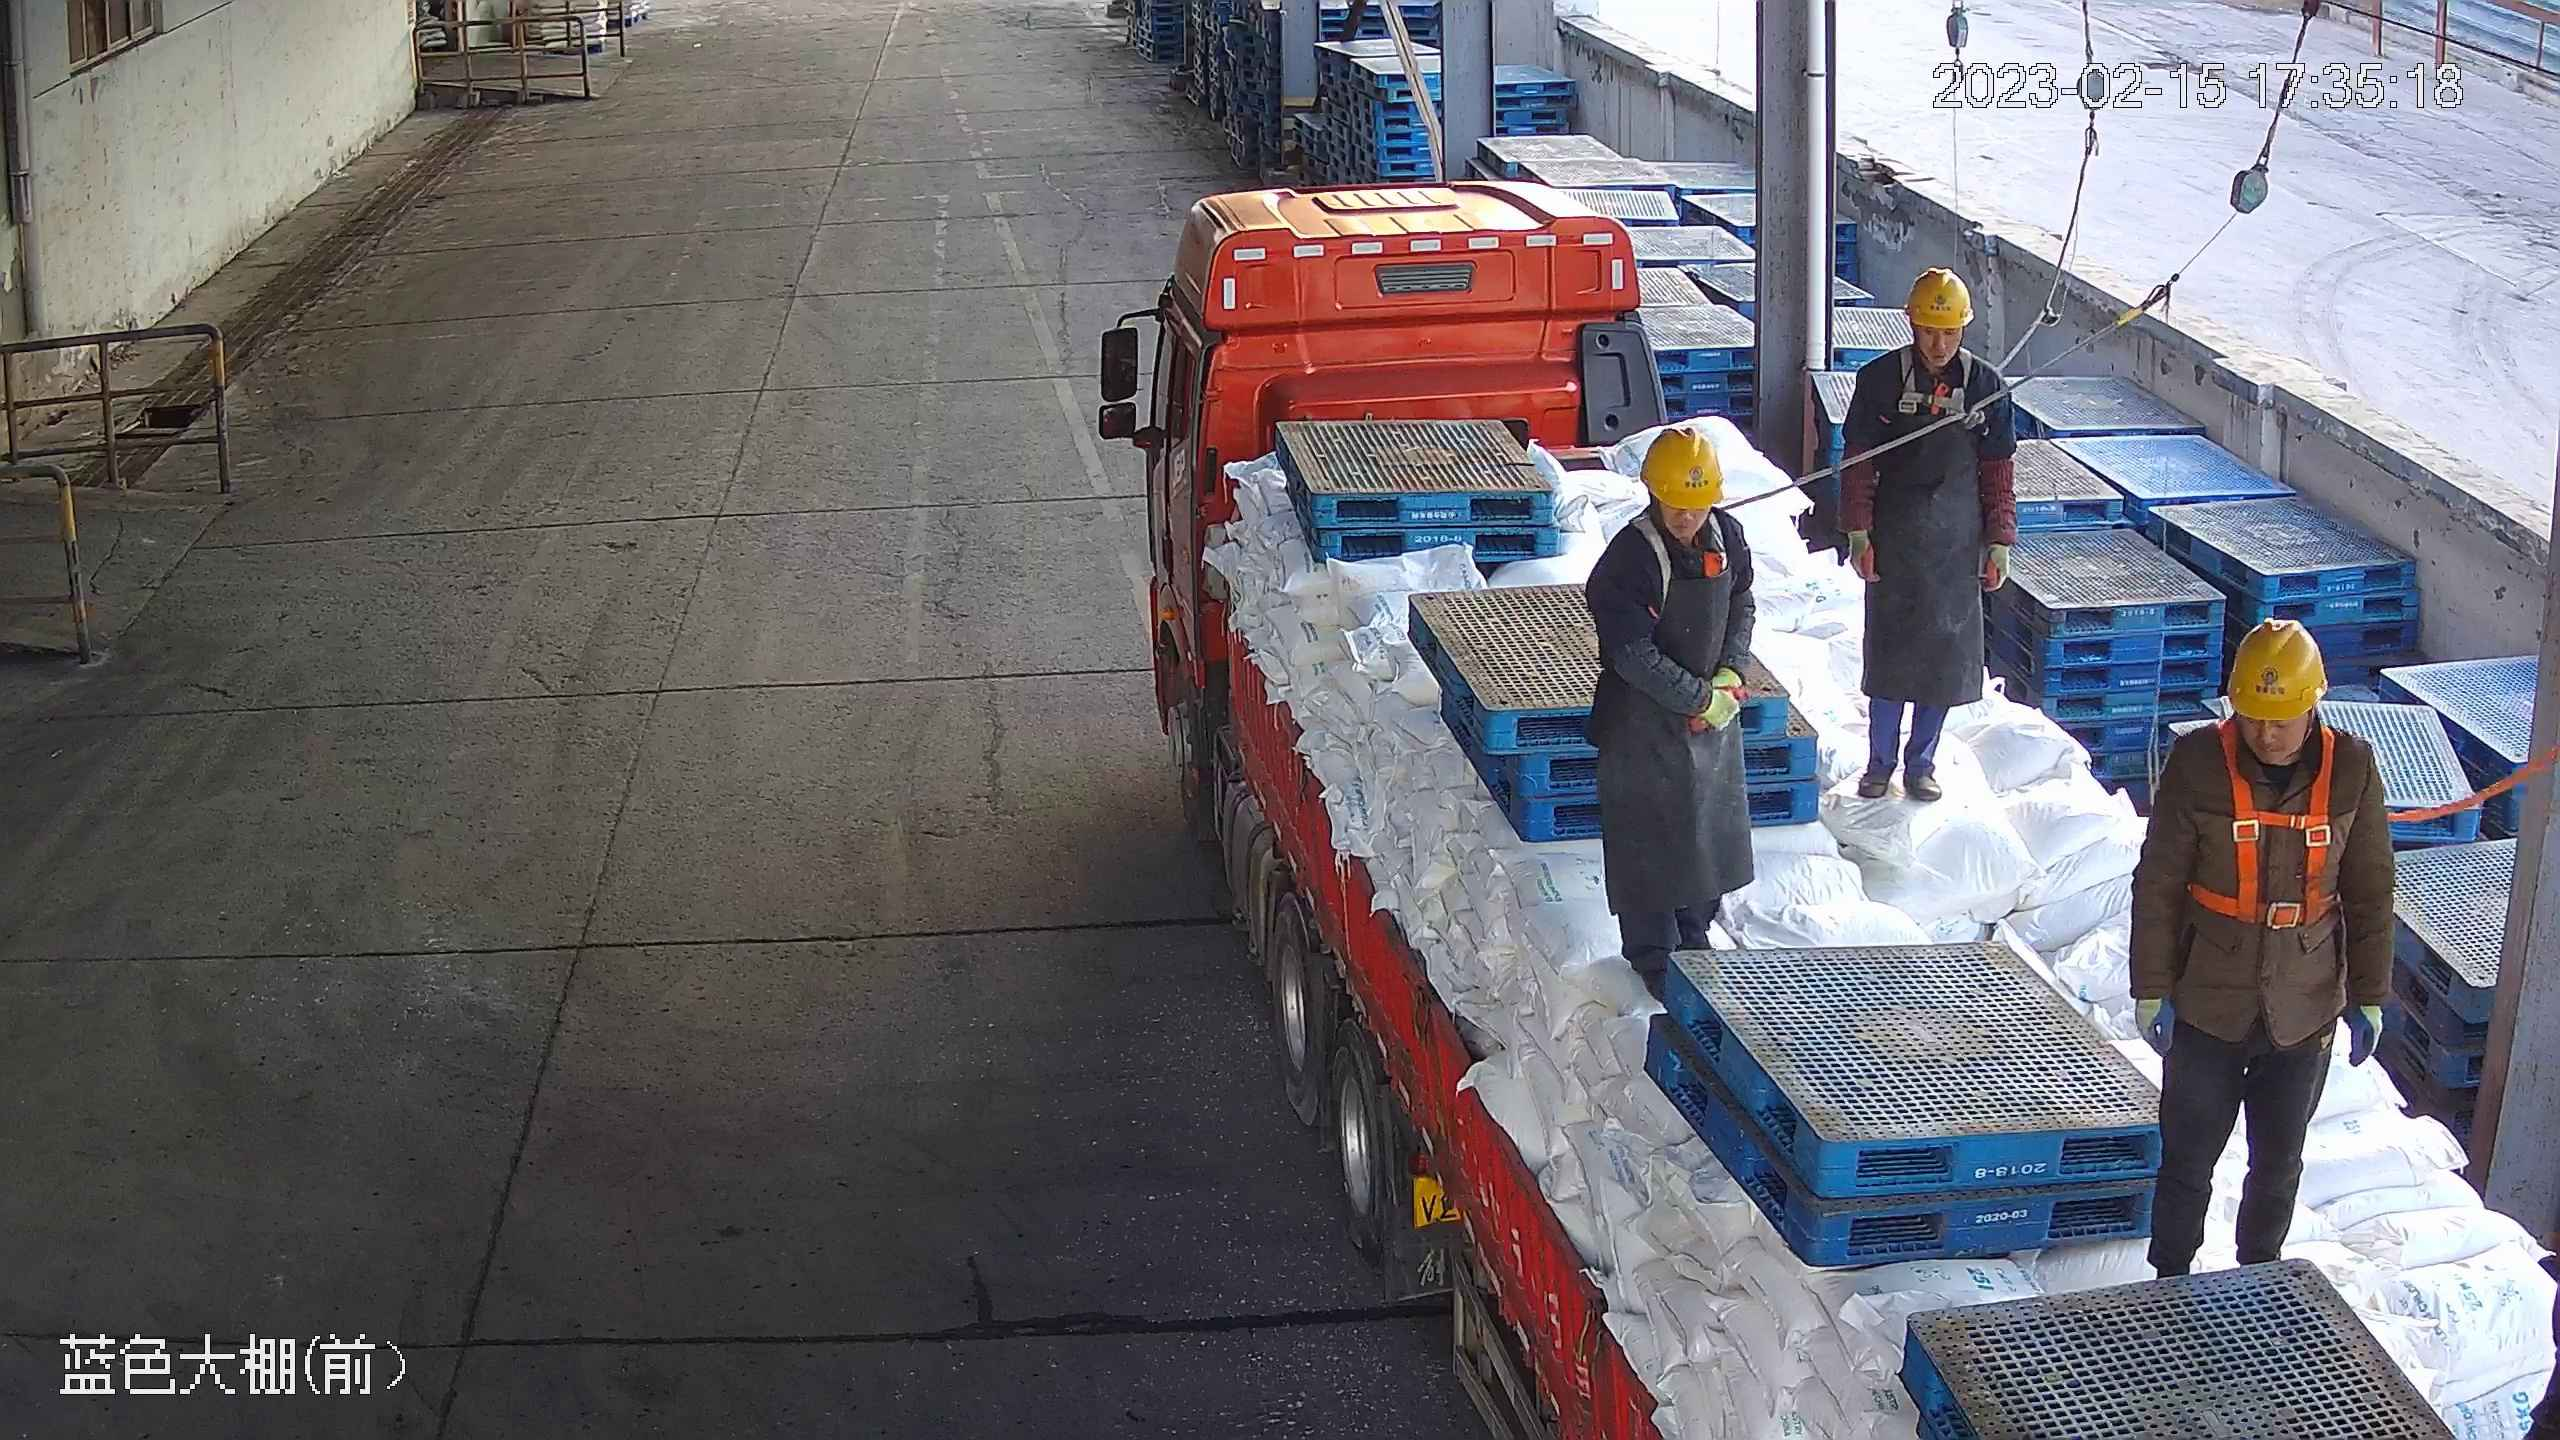belt: (2186, 718, 2344, 927), (1622, 509, 1729, 614), (1897, 343, 1974, 417)
head: (2151, 617, 2381, 831), (1855, 266, 2014, 417), (1598, 428, 1751, 574)
helmet: (2228, 618, 2330, 724), (1640, 428, 1725, 509), (1905, 265, 1975, 331)
people: (2126, 617, 2396, 1274), (1583, 428, 1755, 1002), (1837, 265, 2020, 802)
truck: (1091, 179, 2560, 1440)
